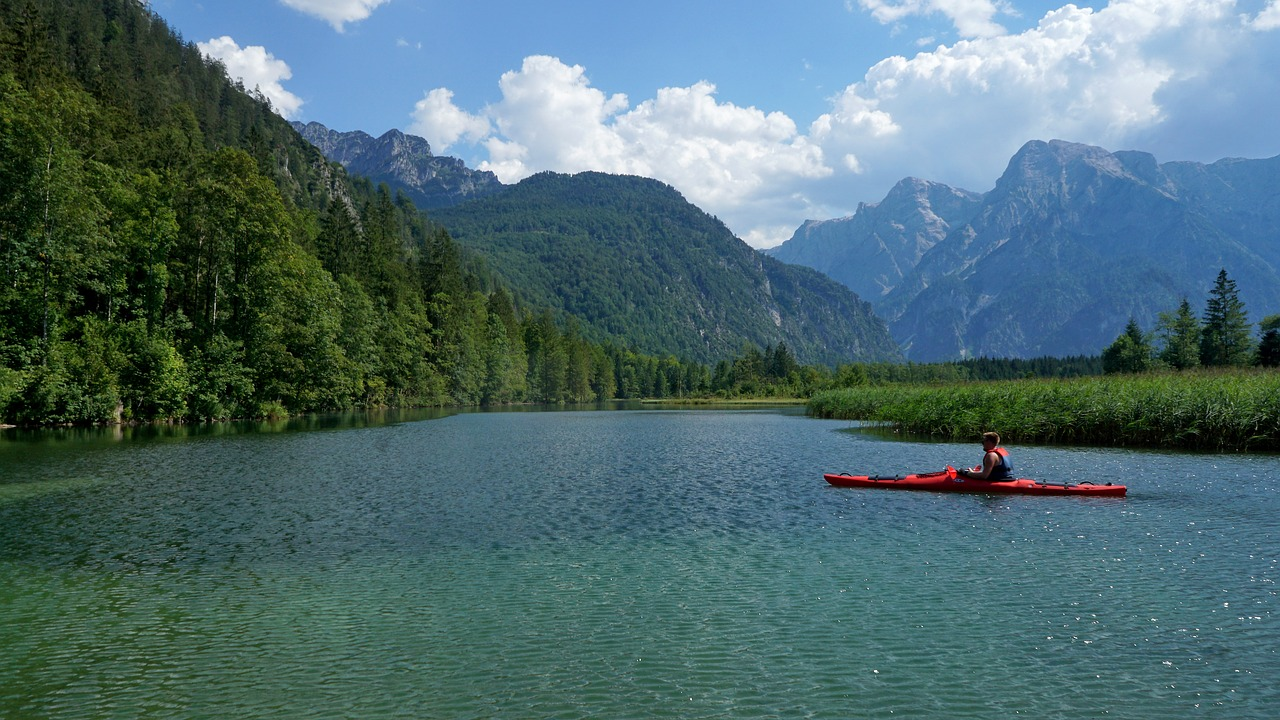kayak: (821, 468, 1130, 499)
